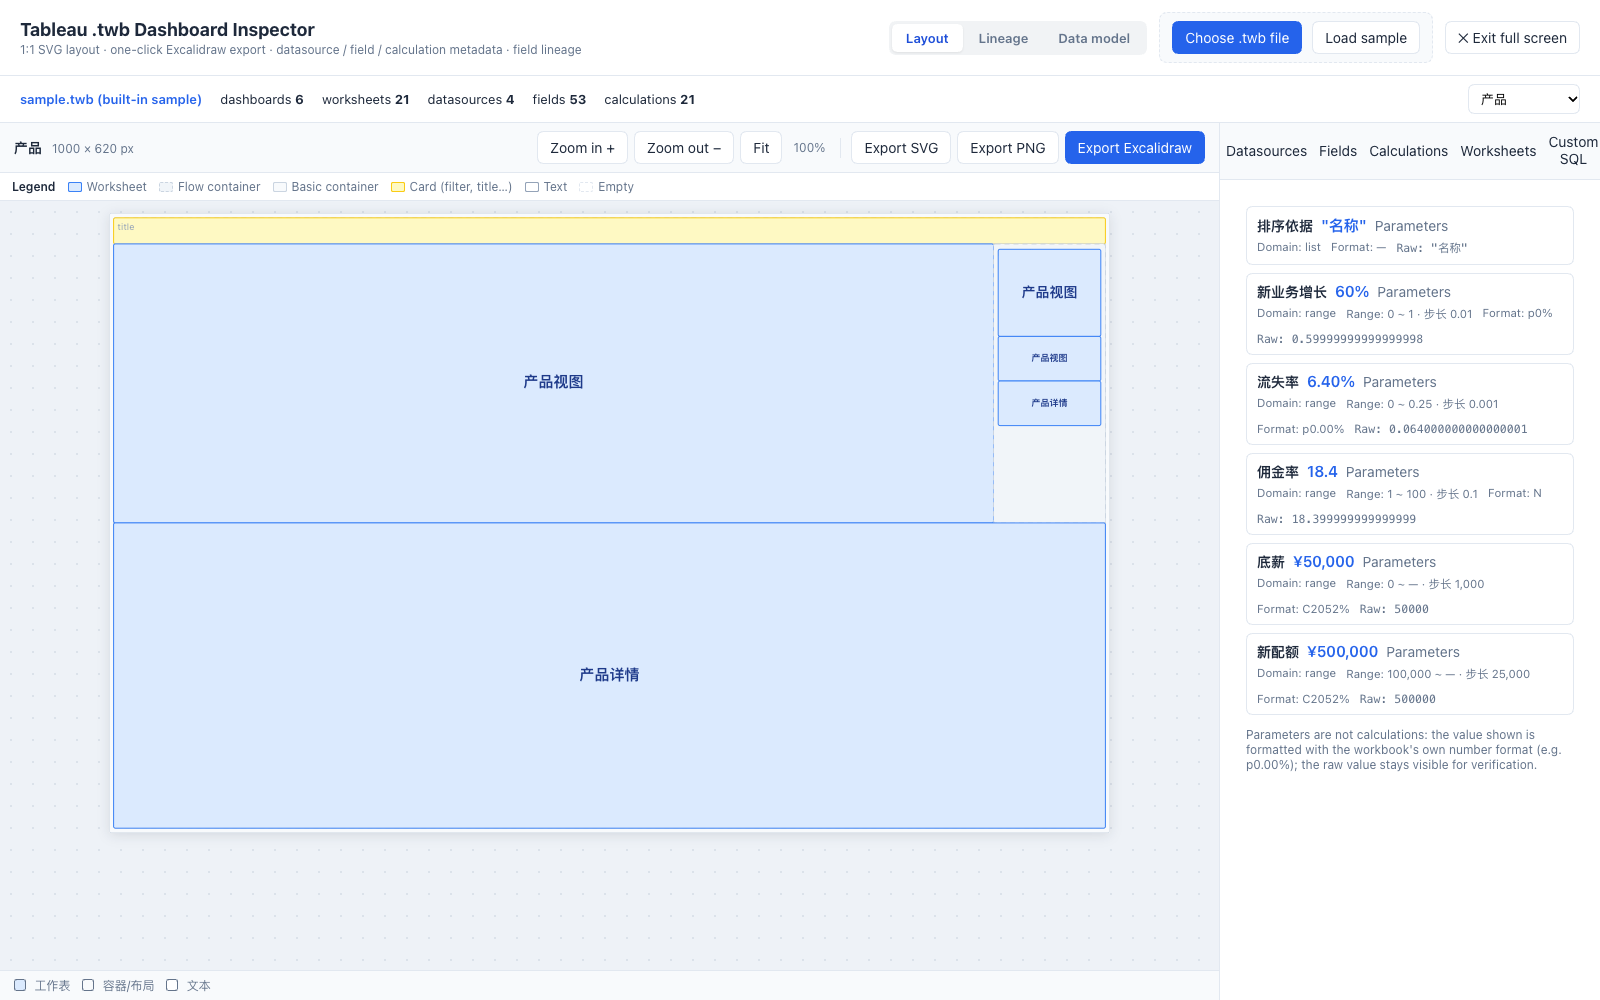

What the dashboard file says about the page in this screenshot:
{"tool":"tableau","page":{"name":"产品","canvas":[1000,1000],"units":"permille","ordinal":0},"visuals":[{"type":"title","box":[4.1,7.7,991.8,42]},{"type":"worksheet","title":"产品视图","mark":"Square","rows":["类别","订单日期"],"cols":["订单日期"],"box":[4.1,49.8,879.9,450]},{"type":"filter","title":"产品视图","param":"[federated.10nnk8d1vgmw8q17yu76u06pnbcj].[none:区域:nk]","box":[888.6,58.6,102.6,140.5]},{"type":"legend","title":"产品视图","param":"[federated.10nnk8d1vgmw8q17yu76u06pnbcj].[sum:销售额:qk]","box":[888.6,199.1,102.6,71.9]},{"type":"legend","title":"产品详情","param":"[federated.10nnk8d1vgmw8q17yu76u06pnbcj].[usr:Calculation_9921103144103743:qk]","box":[888.6,271,102.6,71.9]},{"type":"worksheet","title":"产品详情","mark":"Circle","rows":["类别","子类别"],"cols":["细分","销售额"],"box":[4.1,499.8,991.8,492.5]}]}

Visuals, with their boxes on the dashboard's canvas, which has no fixed pixel size, in thousandths of its width and height (x1, y1, x2, y2). These are canvas units, not pixel positions in the 1600x1000 screenshot, which may show the page scaled, cropped or inside an application window:
title: crop(4, 8, 996, 50)
"产品视图" worksheet (Square marks): crop(4, 50, 884, 500)
"产品视图" filter: crop(889, 59, 991, 199)
"产品视图" legend: crop(889, 199, 991, 271)
"产品详情" legend: crop(889, 271, 991, 343)
"产品详情" worksheet (Circle marks): crop(4, 500, 996, 992)
